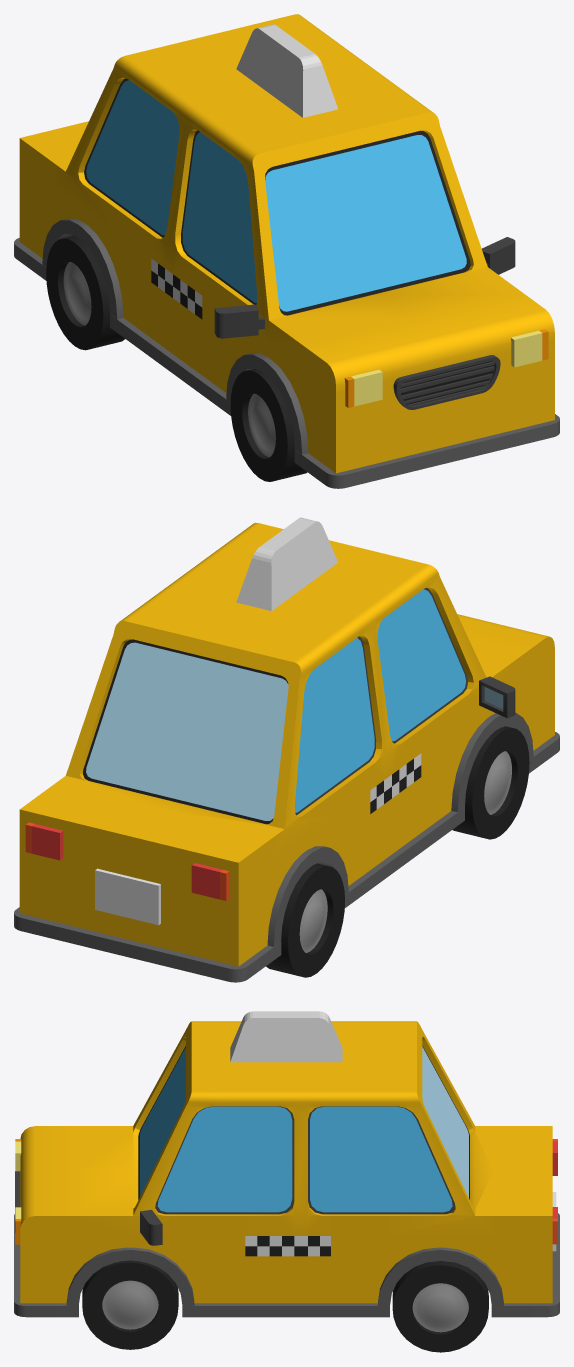
Rendered from oncoming_taxi.glb.
The picture shows the model from 3 angles, top to bottom: view 1: azimuth 30°, elevation 25°; view 2: azimuth 150°, elevation 25°; view 3: azimuth 270°, elevation 25°; orthographic projection. The views are drawn at different scales.
Visible parts, largest first — view 1: Cube.667; view 2: Cube.667; view 3: Cube.667.
Boxes of the visible parts, x1,y1,x2,y2 form: Cube.667: [14, 14, 559, 488]; Cube.667: [14, 517, 559, 982]; Cube.667: [14, 1011, 559, 1352].
Bounding box in the file's own units: 1.9 × 2.09 × 3.59.
1 material, 1 textured.
